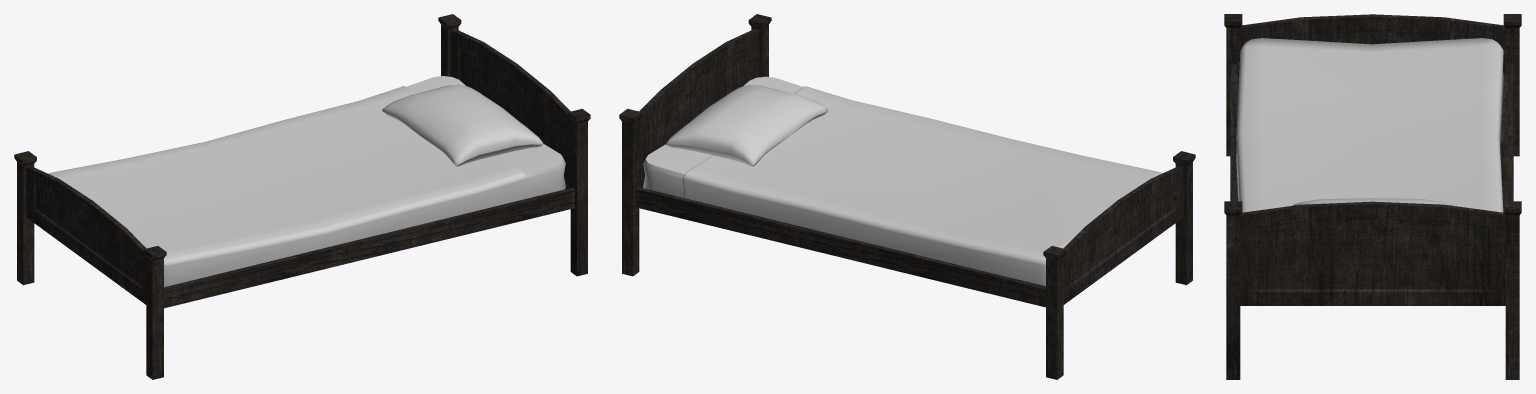
Rendered from bed_5.obj.
The picture shows the model from 3 angles, left to right: view 1: azimuth 30°, elevation 25°; view 2: azimuth 150°, elevation 25°; view 3: azimuth 270°, elevation 25°; orthographic projection. The views are drawn at different scales.
Parts seen in each view (by area): view 1: bed_5; view 2: bed_5; view 3: bed_5.
Part boxes in pixels (x1,y1,x2,y2): bed_5: (14, 14, 590, 379); bed_5: (619, 14, 1195, 379); bed_5: (1224, 14, 1521, 379).
Size of the model in its own units: 2.74 by 0.9621 by 1.49.
